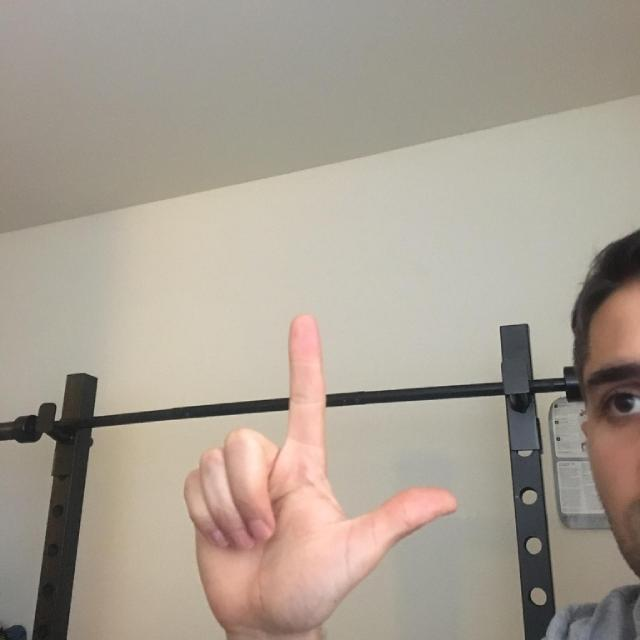L: (117, 267, 522, 640)
